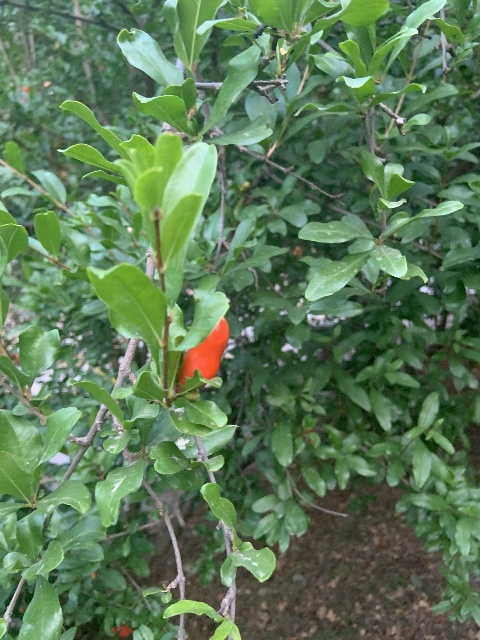bud: (179, 316, 229, 386)
